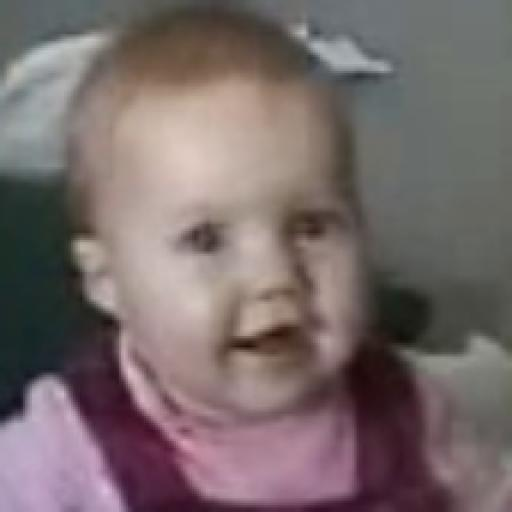Autism: (35, 10, 423, 470)
